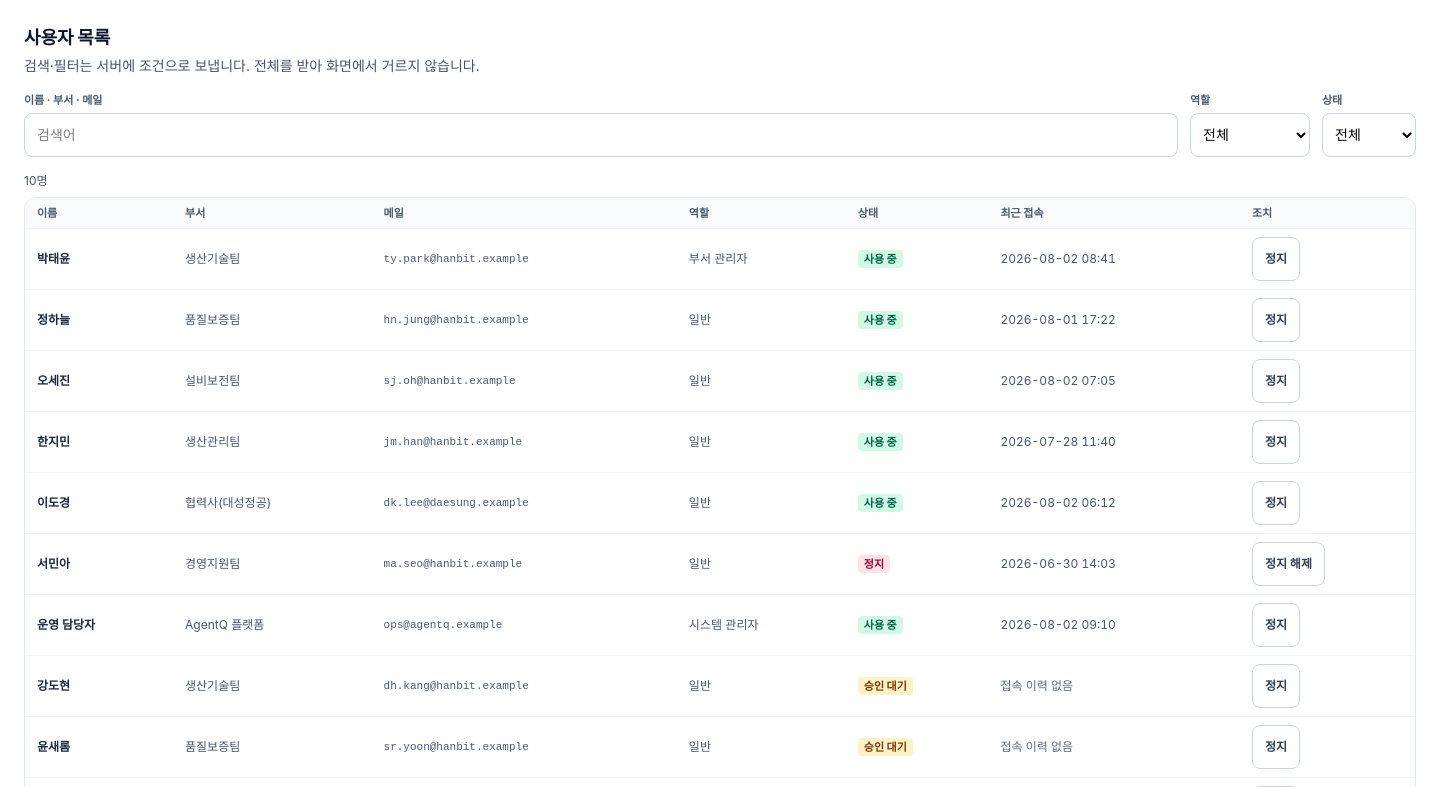
사용자 목록 › 검색어가 목록을 실제로 좁힌다
Expected: the text "10명" is shown, x1=24 y1=172 x2=48 y2=188
In the search field labelled "이름 · 부서 · 메일": (601,134) x1=24 y1=112 x2=1178 y2=156, type "협력사"
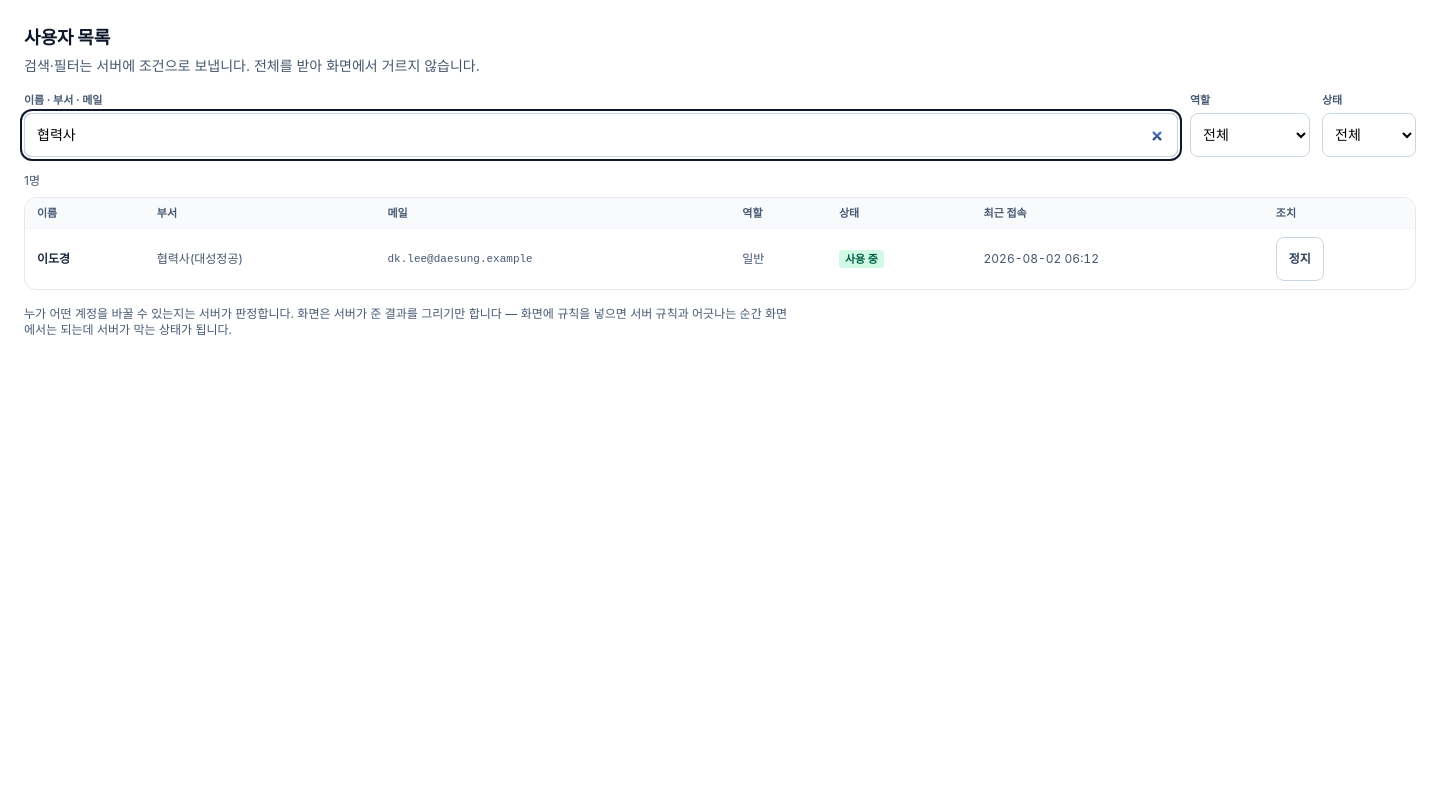
Expected: the column heading "이도경" is shown, x1=25 y1=229 x2=145 y2=289
Expected: the text "1명" is shown, x1=24 y1=172 x2=40 y2=188
Expected: the column heading "박태윤" is gone
